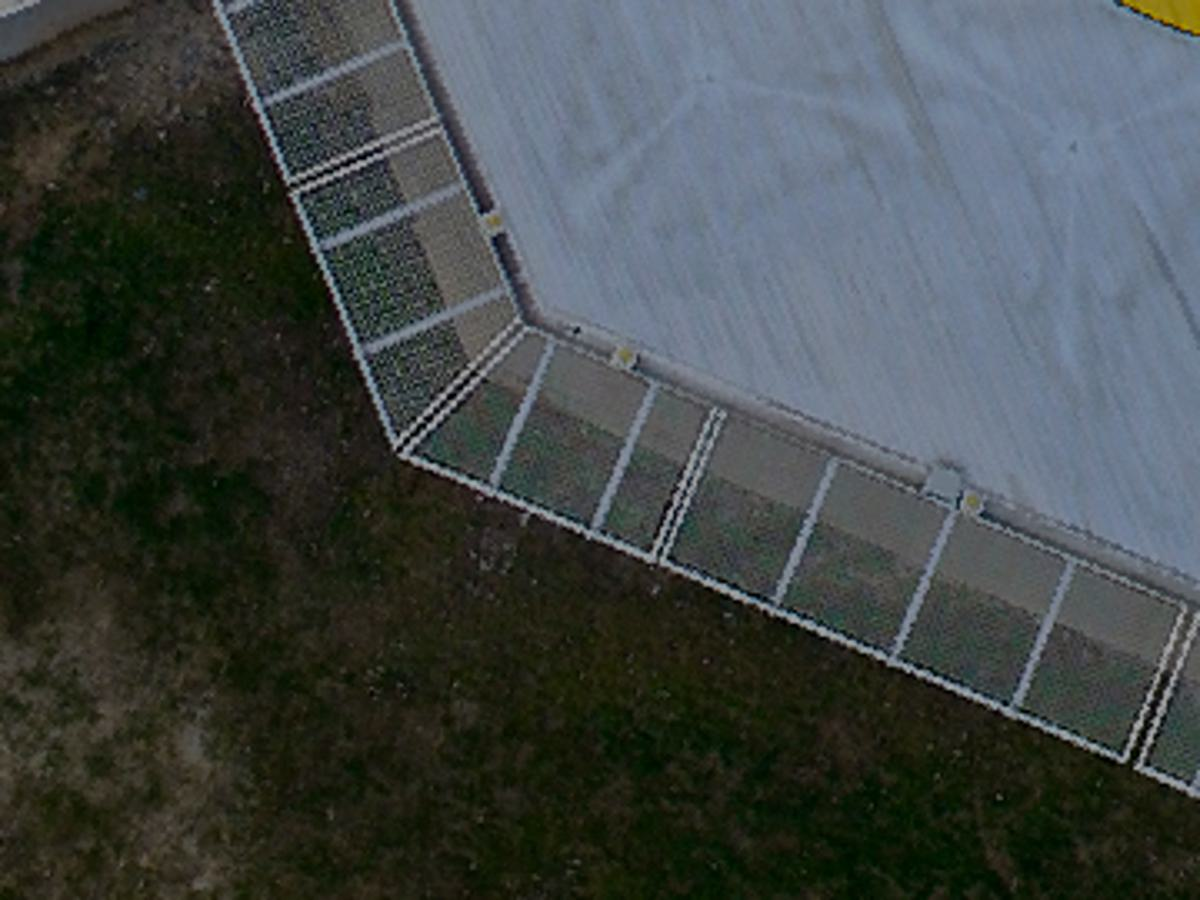Apron: (1072, 1, 1200, 93)
